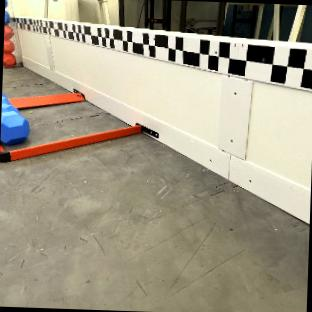V5_BLUE: (0, 94, 30, 144)
V5_RED: (3, 25, 15, 67)
